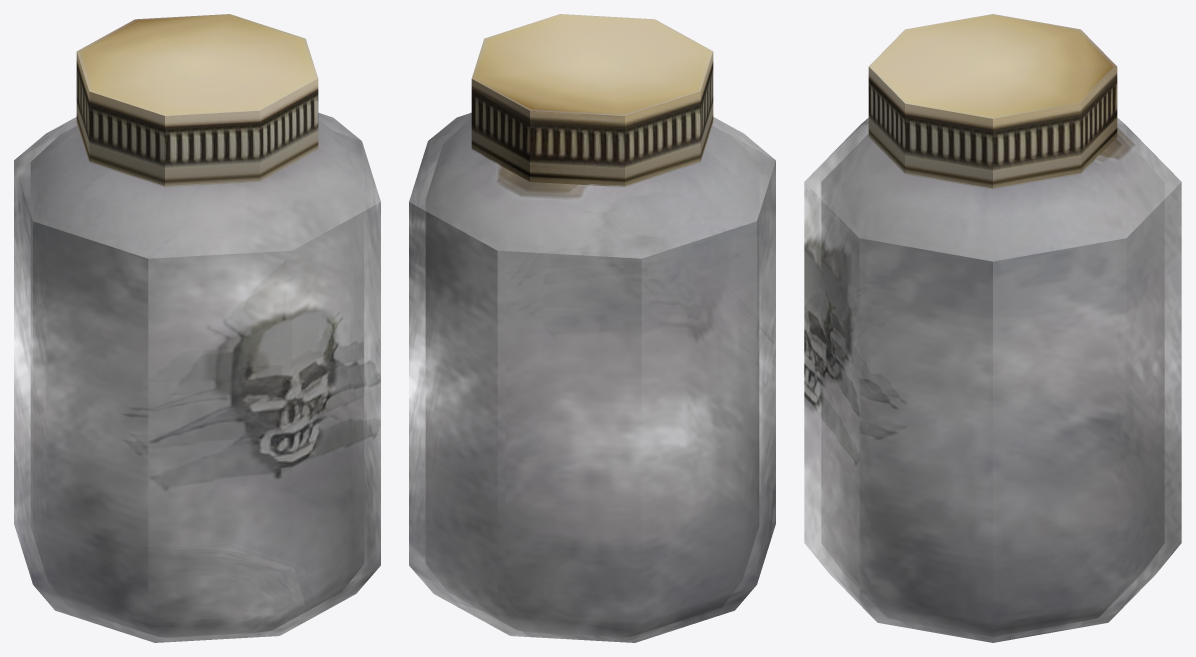
Rendered from mm9_deco_jar.glb.
The picture shows the model from 3 angles, left to right: view 1: azimuth 30°, elevation 25°; view 2: azimuth 150°, elevation 25°; view 3: azimuth 270°, elevation 25°; orthographic projection.
Parts seen in each view (by area): view 1: Jar; view 2: Jar; view 3: Jar.
Part boxes in pixels (<box>): Jar: <box>14,14,380,642</box>; Jar: <box>409,14,775,642</box>; Jar: <box>804,14,1181,642</box>.
Size of the model in its own units: 0.183 by 0.2802 by 0.183.
Materials: 1 (1 with a texture image).
